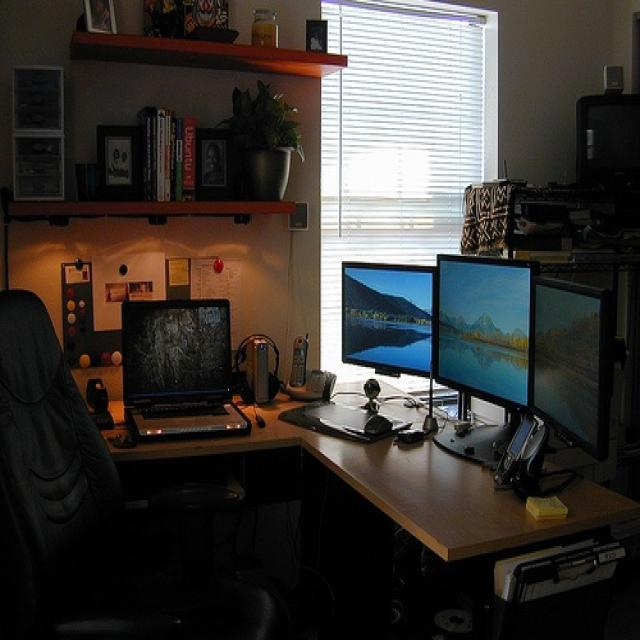chair: (2, 287, 272, 638)
pottedplant: (215, 77, 306, 198)
tvmonitor: (434, 247, 531, 432), (530, 272, 613, 458), (338, 258, 435, 379)
